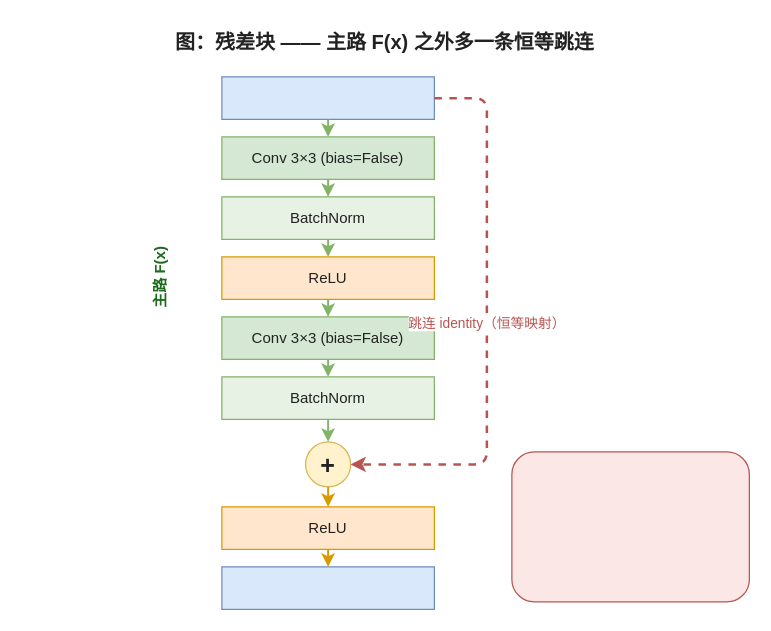
This 771x631 diagram has some shape labels left out. Each missing label, with the centre of its shape:
"前向：y = ReLU( F(x) + x ) 反向：梯度可经跳连「高速公路」直达浅层， 缓解深层网络的梯度消失与退化， 于是能安全堆叠多个残差块。" belongs at pixel 630 526.
"输入 x" belongs at pixel 327 97.
"输出 y" belongs at pixel 327 587.
